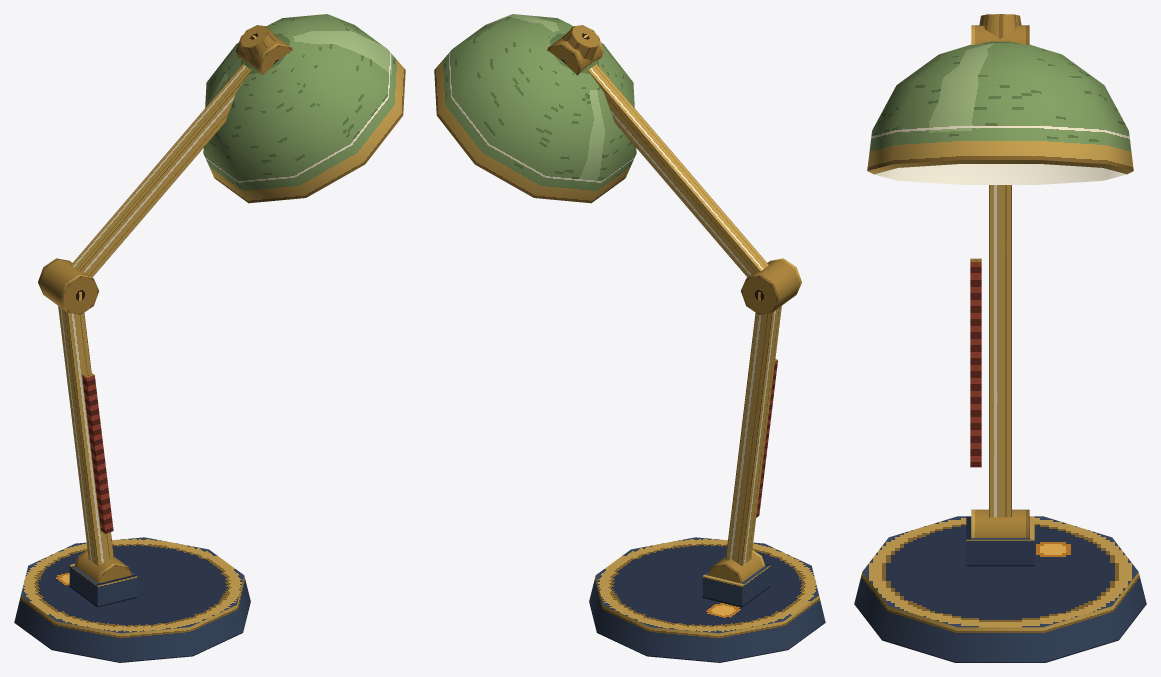
The model's file is lamp.glb.
The picture shows the model from 3 angles, left to right: view 1: azimuth 30°, elevation 25°; view 2: azimuth 150°, elevation 25°; view 3: azimuth 270°, elevation 25°; orthographic projection. The views are drawn at different scales.
Parts seen in each view (by area): view 1: shade_outer, base, arm_upper, arm_lower, joint_elbow, arm_spring, arm_mount, joint_base, joint_head, shade_knob; view 2: shade_outer, base, arm_lower, arm_upper, joint_elbow, arm_mount, joint_base, joint_head, shade_knob; view 3: base, shade_outer, arm_lower, shade_inner, arm_spring, arm_mount, joint_base, shade_rim, joint_head, shade_knob.
Part boxes in pixels (x1,y1,x2,y2): shade_outer: (203,14,405,203); base: (14,537,250,662); arm_upper: (71,61,253,277); arm_lower: (58,306,114,565); joint_elbow: (38,258,98,314); arm_spring: (82,372,113,533); arm_mount: (69,563,137,607); joint_base: (74,550,131,583); joint_head: (235,35,292,75); shade_knob: (240,25,277,64); shade_outer: (434,14,636,203); base: (589,537,825,662); arm_lower: (725,306,781,565); arm_upper: (586,61,768,277); joint_elbow: (741,258,801,314); arm_mount: (702,563,770,607); joint_base: (708,550,765,583); joint_head: (547,35,604,75); shade_knob: (562,25,599,64); base: (854,516,1146,662); shade_outer: (867,41,1133,170); arm_lower: (989,185,1011,517); shade_inner: (874,164,1126,184); arm_spring: (970,258,981,467); arm_mount: (966,516,1034,566); joint_base: (971,509,1029,537); shade_rim: (867,160,1133,174); joint_head: (971,25,1029,45); shade_knob: (979,14,1021,38).
Size of the model in its own units: 3.06 by 4.54 by 1.8.
3 materials, 2 textured.
